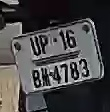1: (57, 30, 68, 51)
3: (78, 58, 91, 78)
4: (51, 65, 61, 86)
6: (66, 27, 76, 49)
7: (60, 64, 70, 83)
8: (68, 60, 81, 81)
B: (30, 68, 42, 88)
M: (39, 66, 52, 87)
P: (38, 34, 50, 55)
U: (30, 35, 42, 59)
